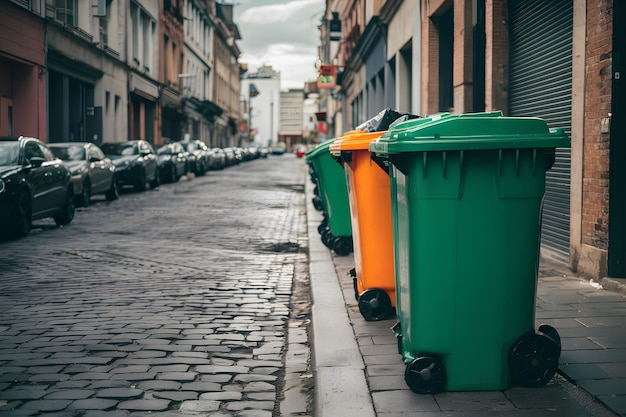partial: (367, 109, 568, 393)
